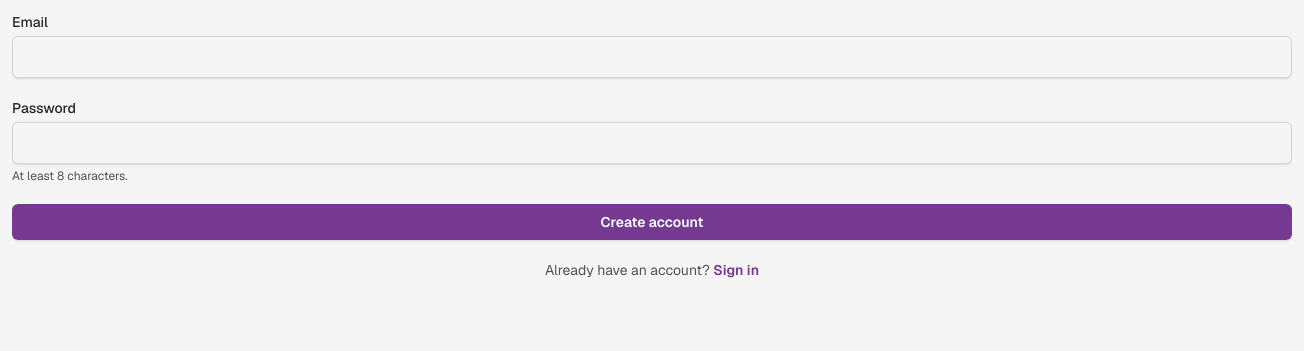
AuthForm › shows when the email already has an account
Type "ada@acme.test" into the field labelled "Email" at (652, 57), box [12, 36, 1292, 78]
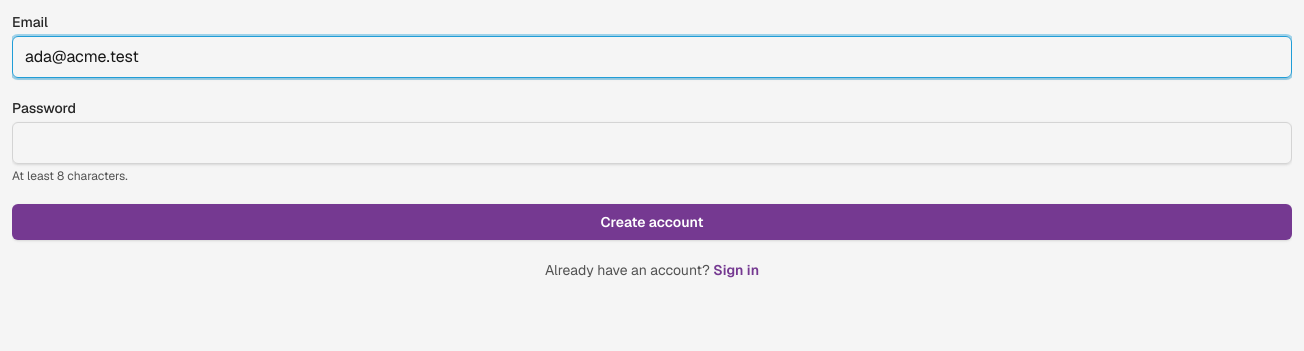
Type "secret pass" into the password field labelled "Password" at (652, 143), box [12, 122, 1292, 164]
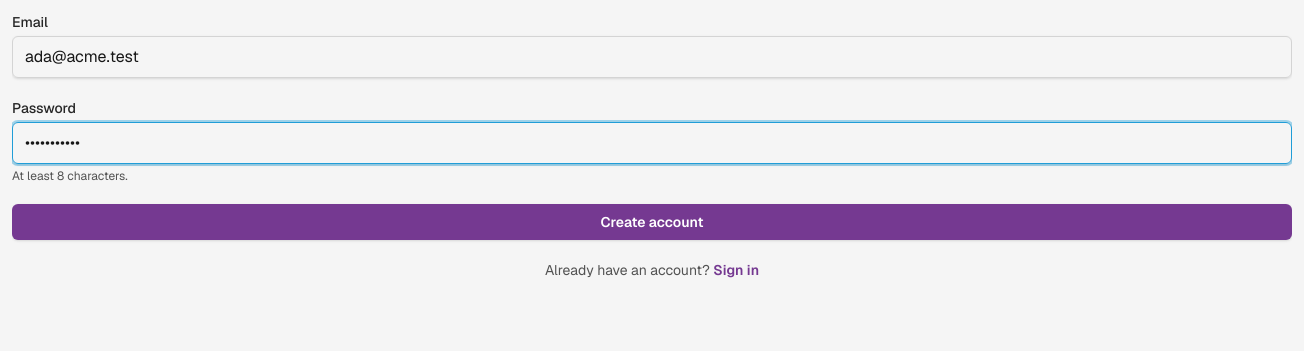
Click the button "Create account" at (652, 222), box [12, 204, 1292, 240]
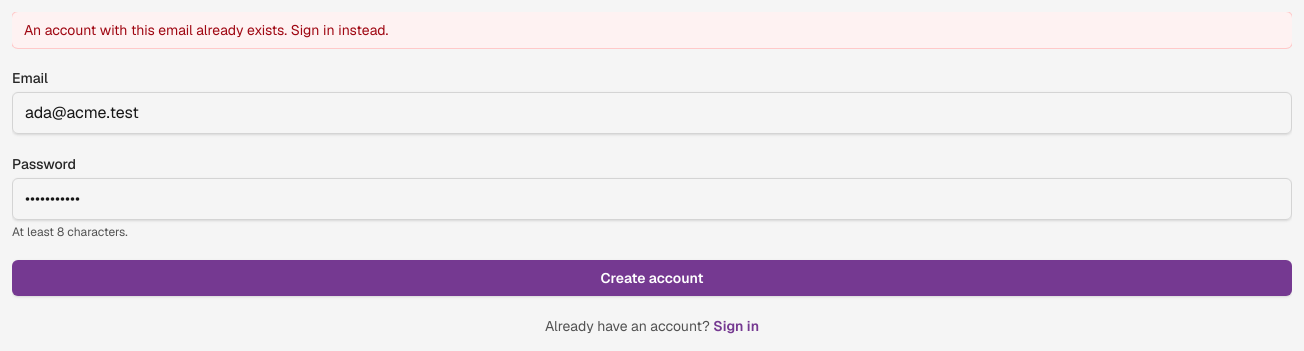
Now the message shows "An account with this email already exists.", box [24, 21, 388, 39]
